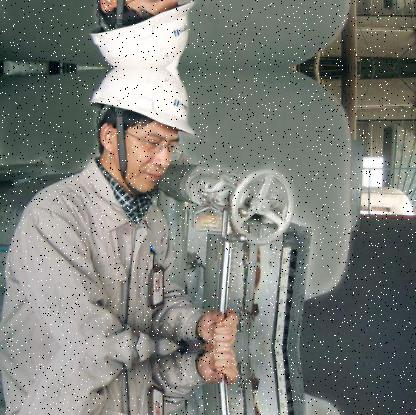helmet: (79, 67, 199, 194), (79, 0, 200, 68)
